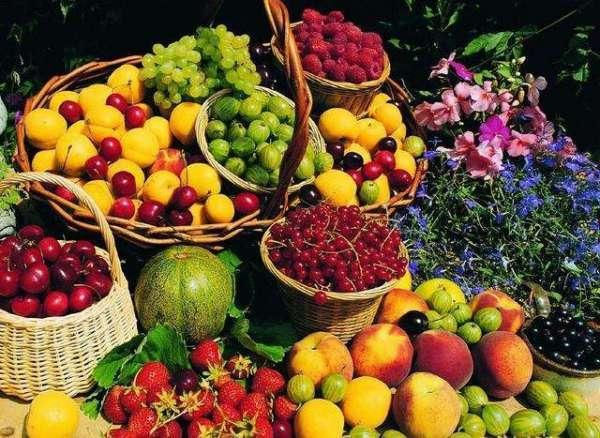apple: (472, 330, 532, 400), (349, 322, 413, 386), (411, 328, 472, 388)
